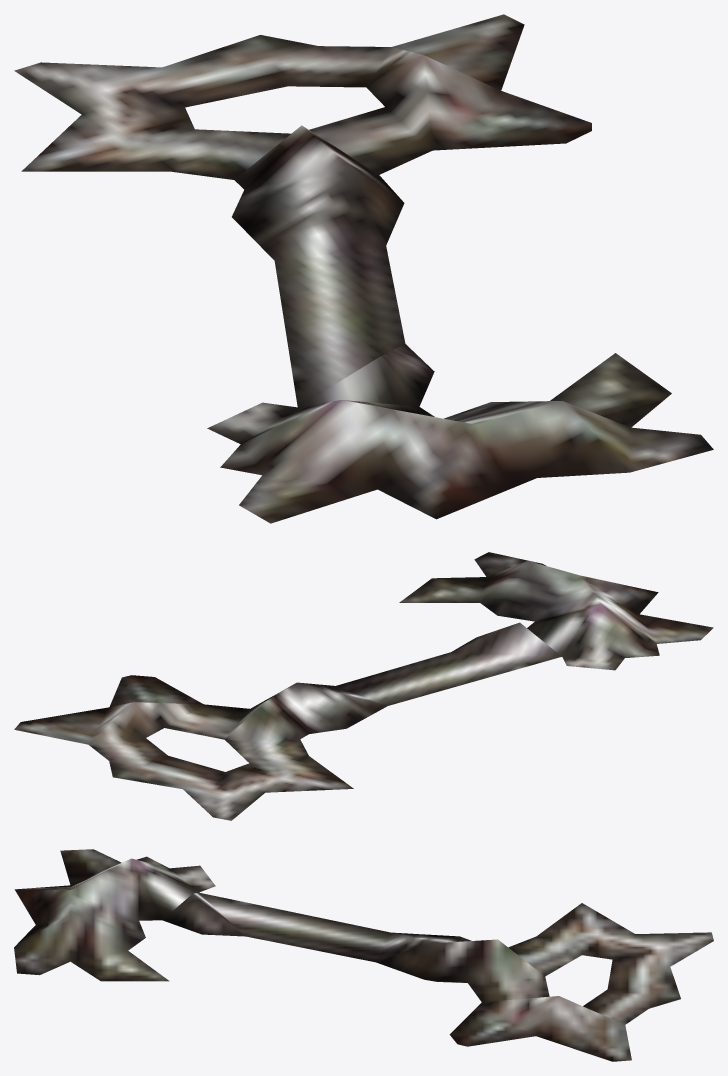
The model's file is item_keys4.glb.
The picture shows the model from 3 angles, top to bottom: view 1: azimuth 30°, elevation 25°; view 2: azimuth 150°, elevation 25°; view 3: azimuth 270°, elevation 25°; orthographic projection. The views are drawn at different scales.
Parts seen in each view (by area): view 1: keys4; view 2: keys4; view 3: keys4.
Boxes of the visible parts, x1=… form: keys4: x1=14, y1=14, x2=713, y2=523; keys4: x1=14, y1=552, x2=713, y2=820; keys4: x1=14, y1=849, x2=713, y2=1061.
Size of the model in its own units: 0.6592 by 0.0739 by 0.9169.
1 material, 1 textured.
